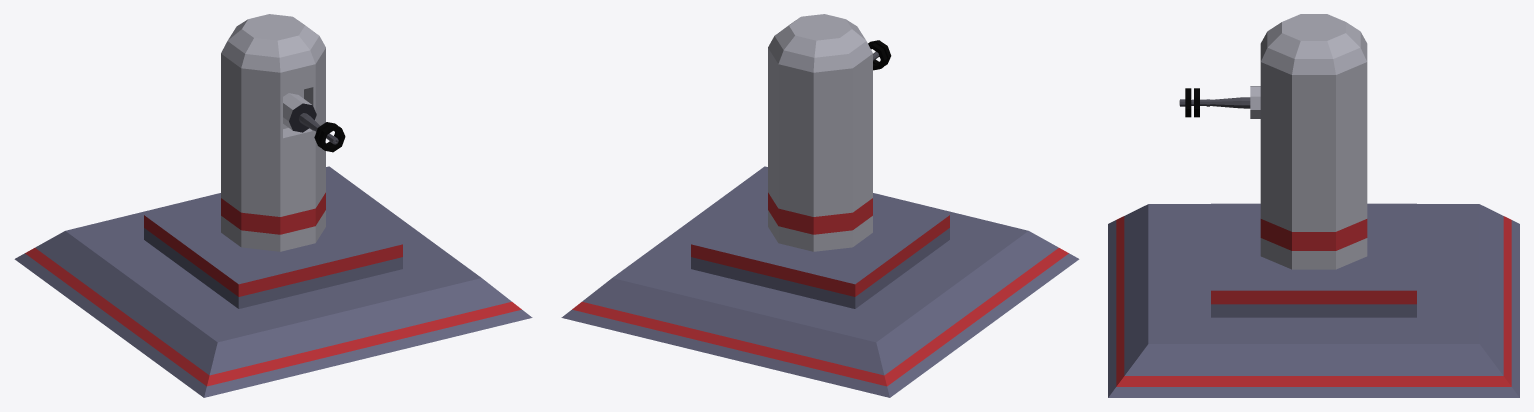
The model's file is turret1.fbx.
The picture shows the model from 3 angles, left to right: view 1: azimuth 30°, elevation 25°; view 2: azimuth 150°, elevation 25°; view 3: azimuth 270°, elevation 25°; orthographic projection. The views are drawn at different scales.
Visible parts, largest first — view 1: Turret1_Base, Turret1_Canon; view 2: Turret1_Base, Turret1_Canon; view 3: Turret1_Base, Turret1_Canon.
Boxes of the visible parts, bbox=[...] form: Turret1_Base: bbox=[14, 166, 532, 397]; Turret1_Canon: bbox=[221, 14, 345, 251]; Turret1_Base: bbox=[561, 166, 1079, 397]; Turret1_Canon: bbox=[768, 14, 891, 251]; Turret1_Base: bbox=[1108, 203, 1519, 397]; Turret1_Canon: bbox=[1179, 14, 1367, 269].
Size of the model in its own units: 200 by 152 by 200.
